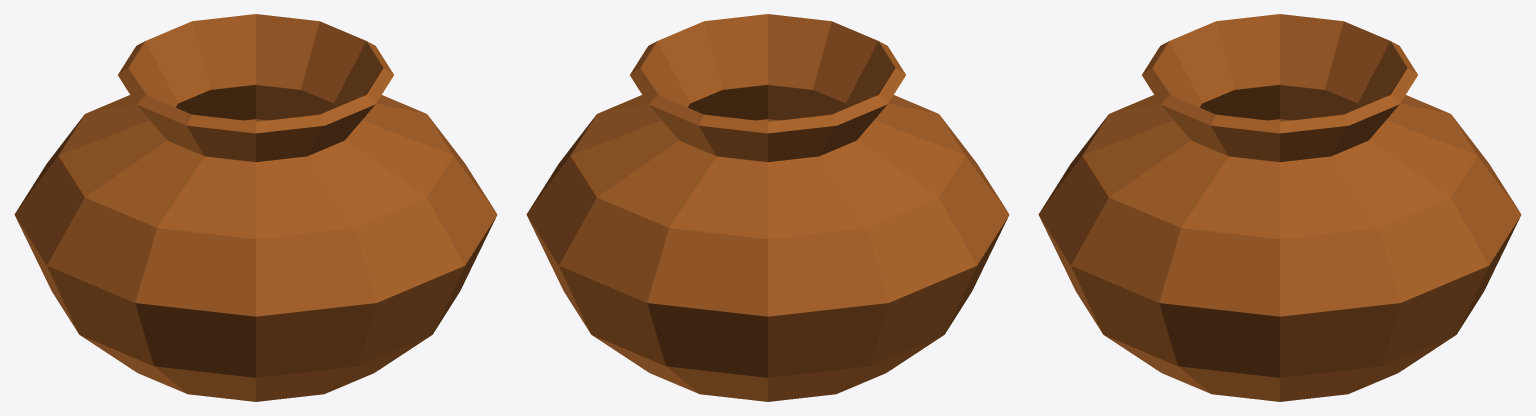
The model's file is SM_pottery_005.FBX.
3 renders of one model, left to right at view 1: azimuth 30°, elevation 25°; view 2: azimuth 150°, elevation 25°; view 3: azimuth 270°, elevation 25°, orthographic.
Parts seen in each view (by area): view 1: Object089; view 2: Object089; view 3: Object089.
Part boxes in pixels (box(x1,y1,x2,y2)): Object089: box(14, 14, 497, 401); Object089: box(526, 14, 1009, 401); Object089: box(1038, 14, 1521, 401).
Size of the model in its own units: 62.62 by 39.52 by 62.62.
